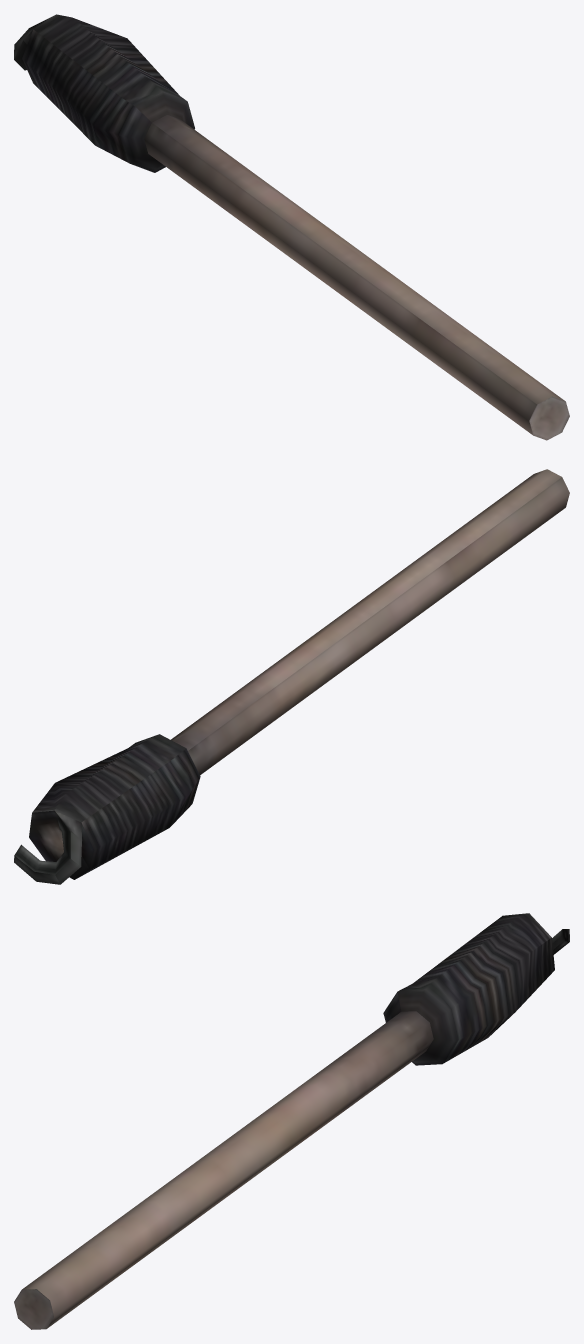
File: pir_m_inv_can_ram_d.fbx
The picture shows the model from 3 angles, top to bottom: view 1: azimuth 30°, elevation 25°; view 2: azimuth 150°, elevation 25°; view 3: azimuth 330°, elevation 25°; orthographic projection.
Visible parts, largest first — view 1: ram_d_root; view 2: ram_d_root; view 3: ram_d_root.
Boxes of the visible parts, box(x1,y1,x2,y2) form: ram_d_root: box(14, 14, 569, 440); ram_d_root: box(14, 469, 569, 884); ram_d_root: box(14, 913, 569, 1329).
Bounding box in the file's own units: 23.77 × 22.47 × 240.
Materials: 1 (1 with a texture image).
